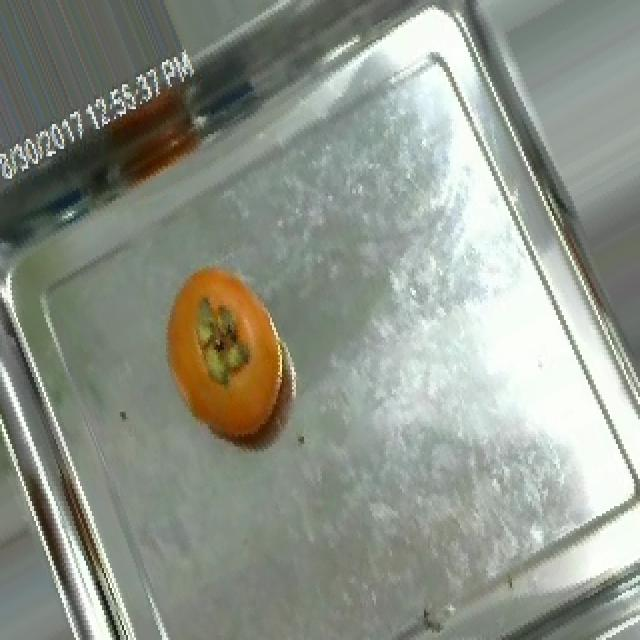Fruit: (150, 248, 306, 454)
